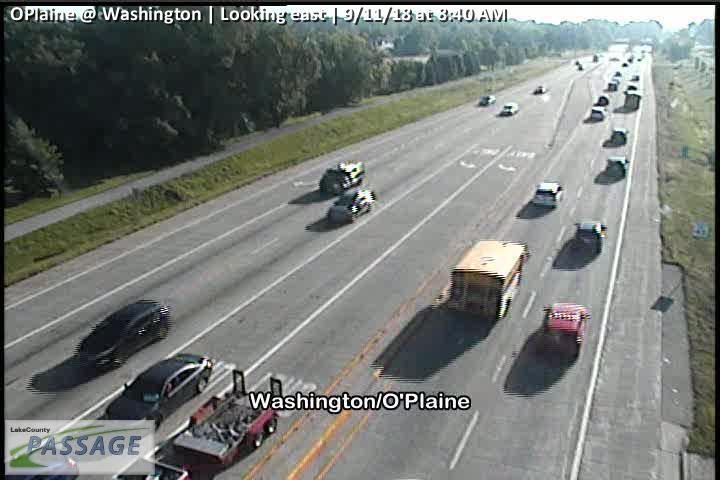SUV: (76, 300, 169, 373), (541, 302, 591, 356), (327, 187, 374, 223), (575, 220, 607, 252), (531, 182, 564, 207), (606, 156, 629, 178), (610, 127, 629, 145), (500, 100, 519, 115), (591, 105, 606, 120)
Sedan: (101, 353, 212, 431)
Truck: (110, 370, 285, 480), (445, 239, 527, 318), (320, 160, 365, 194)
